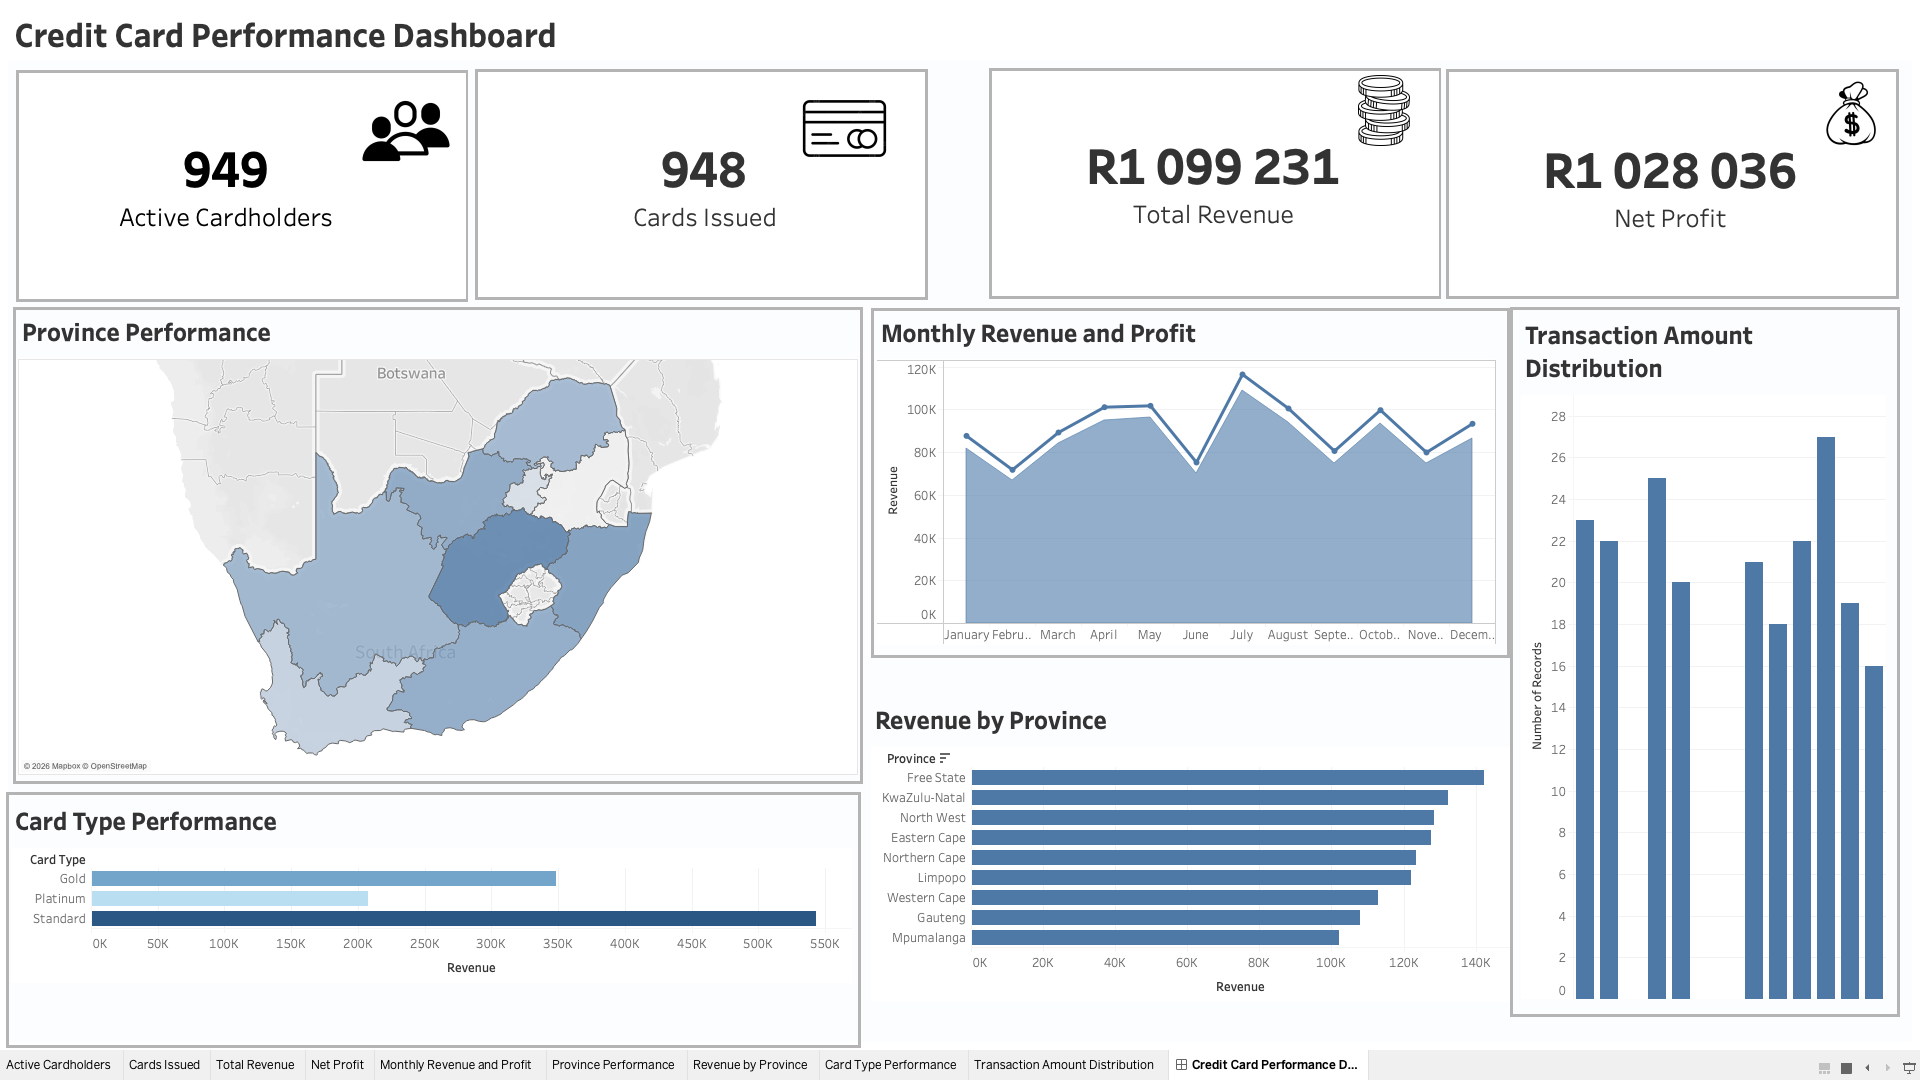

What the dashboard file says about the page in this screenshot:
{"tool":"tableau","page":{"name":"Credit Card Performance Dashboard","canvas":[1000,1000],"units":"permille","ordinal":0},"visuals":[{"type":"title","box":[4.2,7.6,991.7,49.5]},{"type":"blank","box":[514.9,64.8,235.8,219.6]},{"type":"blank","box":[247.5,65.8,235.8,219.6]},{"type":"blank","box":[753.1,65.8,235.8,218.6]},{"type":"blank","box":[8.2,66.8,235.8,220.7]},{"type":"image","param":"/Users/kennedymoloto/Downloads/users-icon-symbol-design-illustration-vector.jpg","box":[181.4,69.8,60.9,110.3]},{"type":"image","param":"/Users/kennedymoloto/Downloads/pngtree-vector-credit-card-icon-png-image_4869008","box":[410.8,69.8,69,105.3]},{"type":"worksheet","title":"Active Cardholders","mark":"Text","box":[11.7,70.9,213,211.5]},{"type":"worksheet","title":"Total Revenue","mark":"Automatic","box":[517.3,70.9,230,206.5]},{"type":"image","param":"/Users/kennedymoloto/Downloads/black-and-white-a-stack-of-gold-coins-illustratio","box":[707.4,71.9,38.6,67.8]},{"type":"image","param":"/Users/kennedymoloto/Downloads/istockphoto-[number redacted]-612x612.jpg","box":[942.7,71.9,42.7,83]},{"type":"worksheet","title":"Net Profit","mark":"Automatic","box":[755.4,73.9,230,206.5]},{"type":"worksheet","title":"Cards Issued","mark":"Automatic","box":[255.7,74.9,222.9,201.4]},{"type":"dashboard-object","box":[264.5,168,14,24.3]},{"type":"blank","box":[7,292.5,442.9,454.4]},{"type":"blank","box":[786.4,292.5,203,676.1]},{"type":"blank","box":[453.5,293.5,332.9,333]},{"type":"worksheet","title":"Province Performance","mark":"Multipolygon","box":[9.5,296.6,437.5,442.2]},{"type":"worksheet","title":"Monthly Revenue and Profit","mark":"Area","rows":["revenue","profit"],"cols":["transaction_month"],"box":[457,297.6,322.4,316.8]},{"type":"worksheet","title":"Transaction Amount Distribution","mark":"Bar","rows":["Calculation_3496339861651456"],"cols":["Transaction Amount (bin)"],"box":[792.3,298.6,190.2,652.8]},{"type":"worksheet","title":"Revenue by Province","mark":"Automatic","rows":["province"],"cols":["revenue"],"box":[453.5,666,332.9,331]},{"type":"blank","box":[2.9,754.1,445.3,243.9]},{"type":"worksheet","title":"Card Type Performance","mark":"Bar","rows":["card_type"],"cols":["revenue"],"box":[5.9,762.1,438.3,228.7]}]}

Visuals, with their boxes on the dashboard's canvas, which has no fixed pixel size, in thousandths of its width and height (x1, y1, x2, y2). These are canvas units, not pixel positions in the 1920x1080 screenshot, which may show the page scaled, cropped or inside an application window:
title: bbox=(4, 8, 996, 57)
blank: bbox=(515, 65, 751, 284)
blank: bbox=(248, 66, 483, 285)
blank: bbox=(753, 66, 989, 284)
blank: bbox=(8, 67, 244, 288)
image: bbox=(181, 70, 242, 180)
image: bbox=(411, 70, 480, 175)
"Active Cardholders" worksheet (Text marks): bbox=(12, 71, 225, 282)
"Total Revenue" worksheet: bbox=(517, 71, 747, 277)
image: bbox=(707, 72, 746, 140)
image: bbox=(943, 72, 985, 155)
"Net Profit" worksheet: bbox=(755, 74, 985, 280)
"Cards Issued" worksheet: bbox=(256, 75, 479, 276)
dashboard-object: bbox=(264, 168, 278, 192)
blank: bbox=(7, 292, 450, 747)
blank: bbox=(786, 292, 989, 969)
blank: bbox=(454, 294, 786, 626)
"Province Performance" worksheet (Multipolygon marks): bbox=(10, 297, 447, 739)
"Monthly Revenue and Profit" worksheet (Area marks): bbox=(457, 298, 779, 614)
"Transaction Amount Distribution" worksheet (Bar marks): bbox=(792, 299, 982, 951)
"Revenue by Province" worksheet: bbox=(454, 666, 786, 997)
blank: bbox=(3, 754, 448, 998)
"Card Type Performance" worksheet (Bar marks): bbox=(6, 762, 444, 991)
